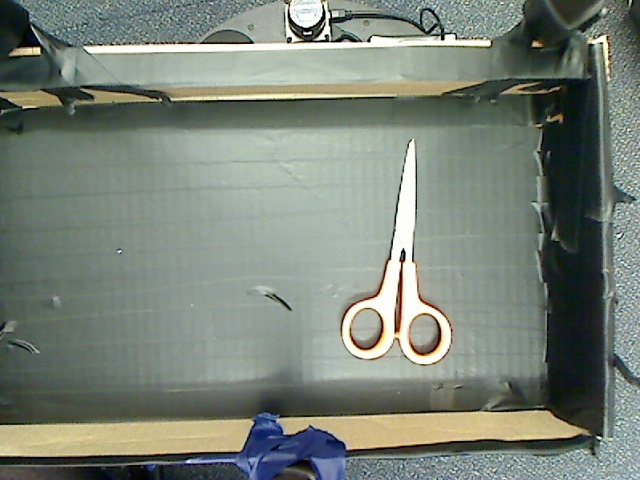scissors: (333, 125, 461, 368)
